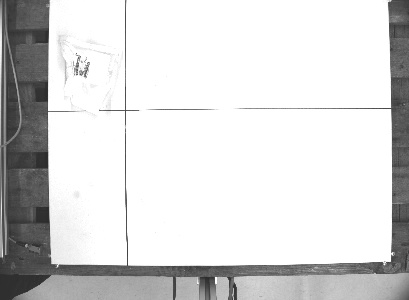t3: (54, 32, 125, 118)
